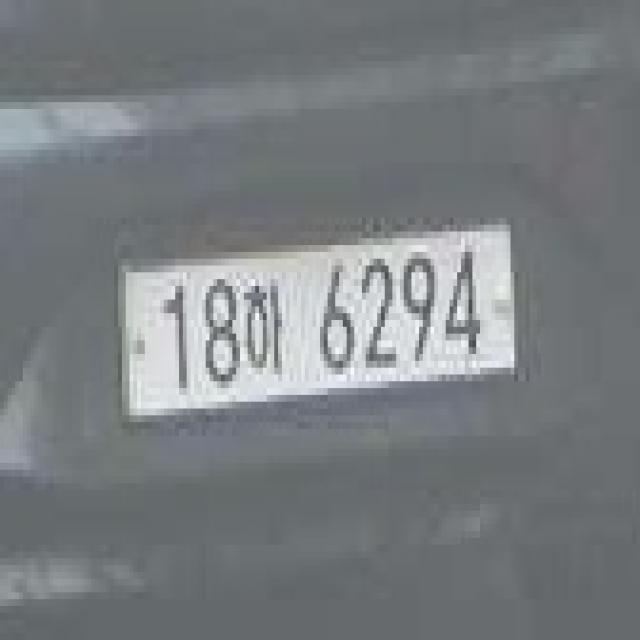1: (160, 266, 194, 408)
2: (358, 252, 400, 381)
4: (438, 238, 488, 368)
6: (316, 252, 358, 381)
8: (202, 266, 244, 402)
9: (400, 245, 438, 368)
ha: (244, 272, 289, 388)
license_plate: (110, 197, 526, 436)
